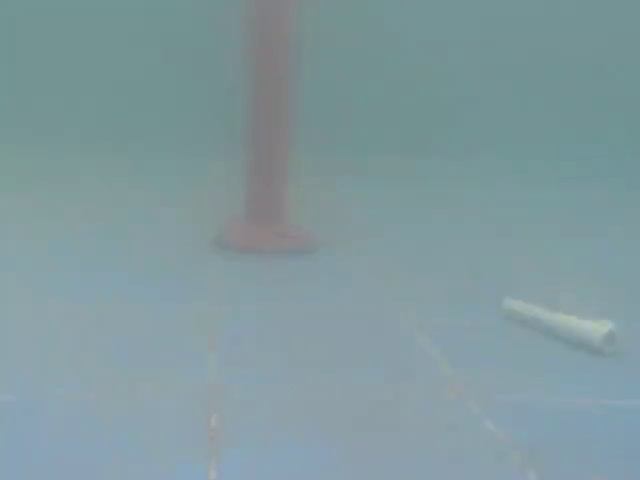flare: (213, 0, 329, 274)
